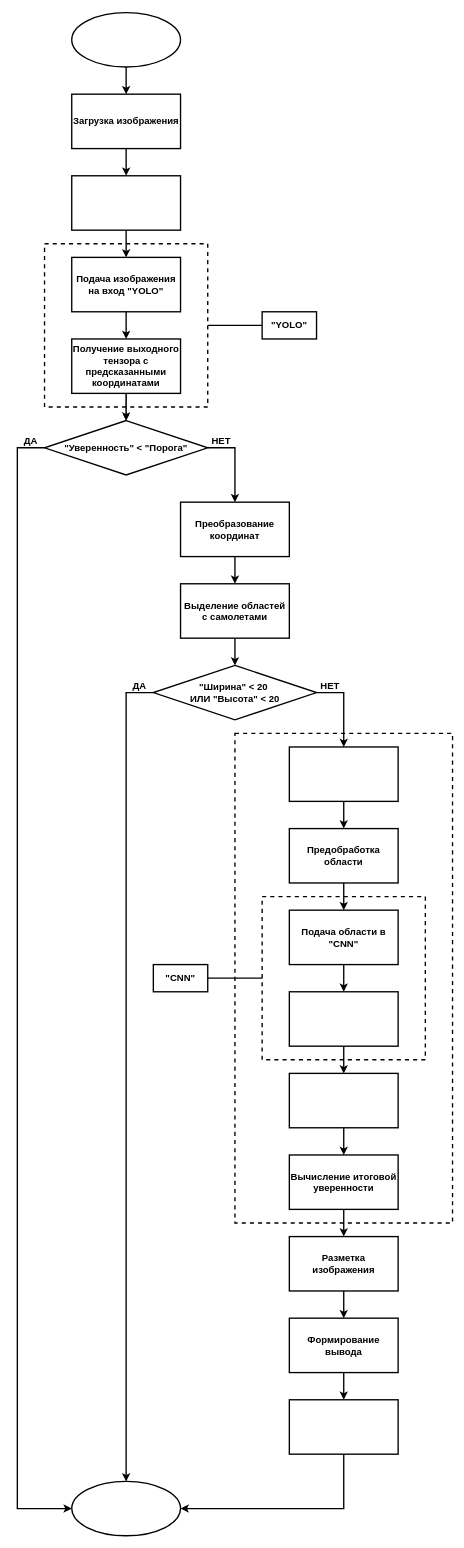
This 464x1548 diagram has some shape labels left out. Each missing label, with the box of its shape:
Выбор класса с максимальной вероятностью: (288, 1072, 398, 1128)
Для каждой области: (288, 746, 398, 802)
Конец: (71, 1480, 181, 1536)
Начало: (71, 12, 181, 67)
Отображение результата: (288, 1399, 398, 1455)
Получение вероятностного распределения по классам: (288, 991, 398, 1047)
Предобработка изображения: (71, 175, 181, 231)
